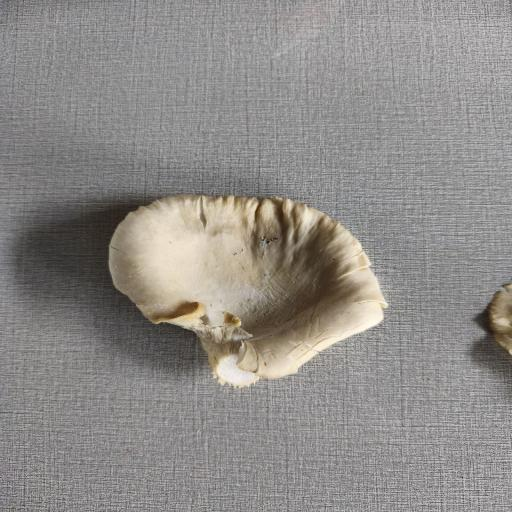White Oyster Mushroom: (91, 184, 402, 394)
